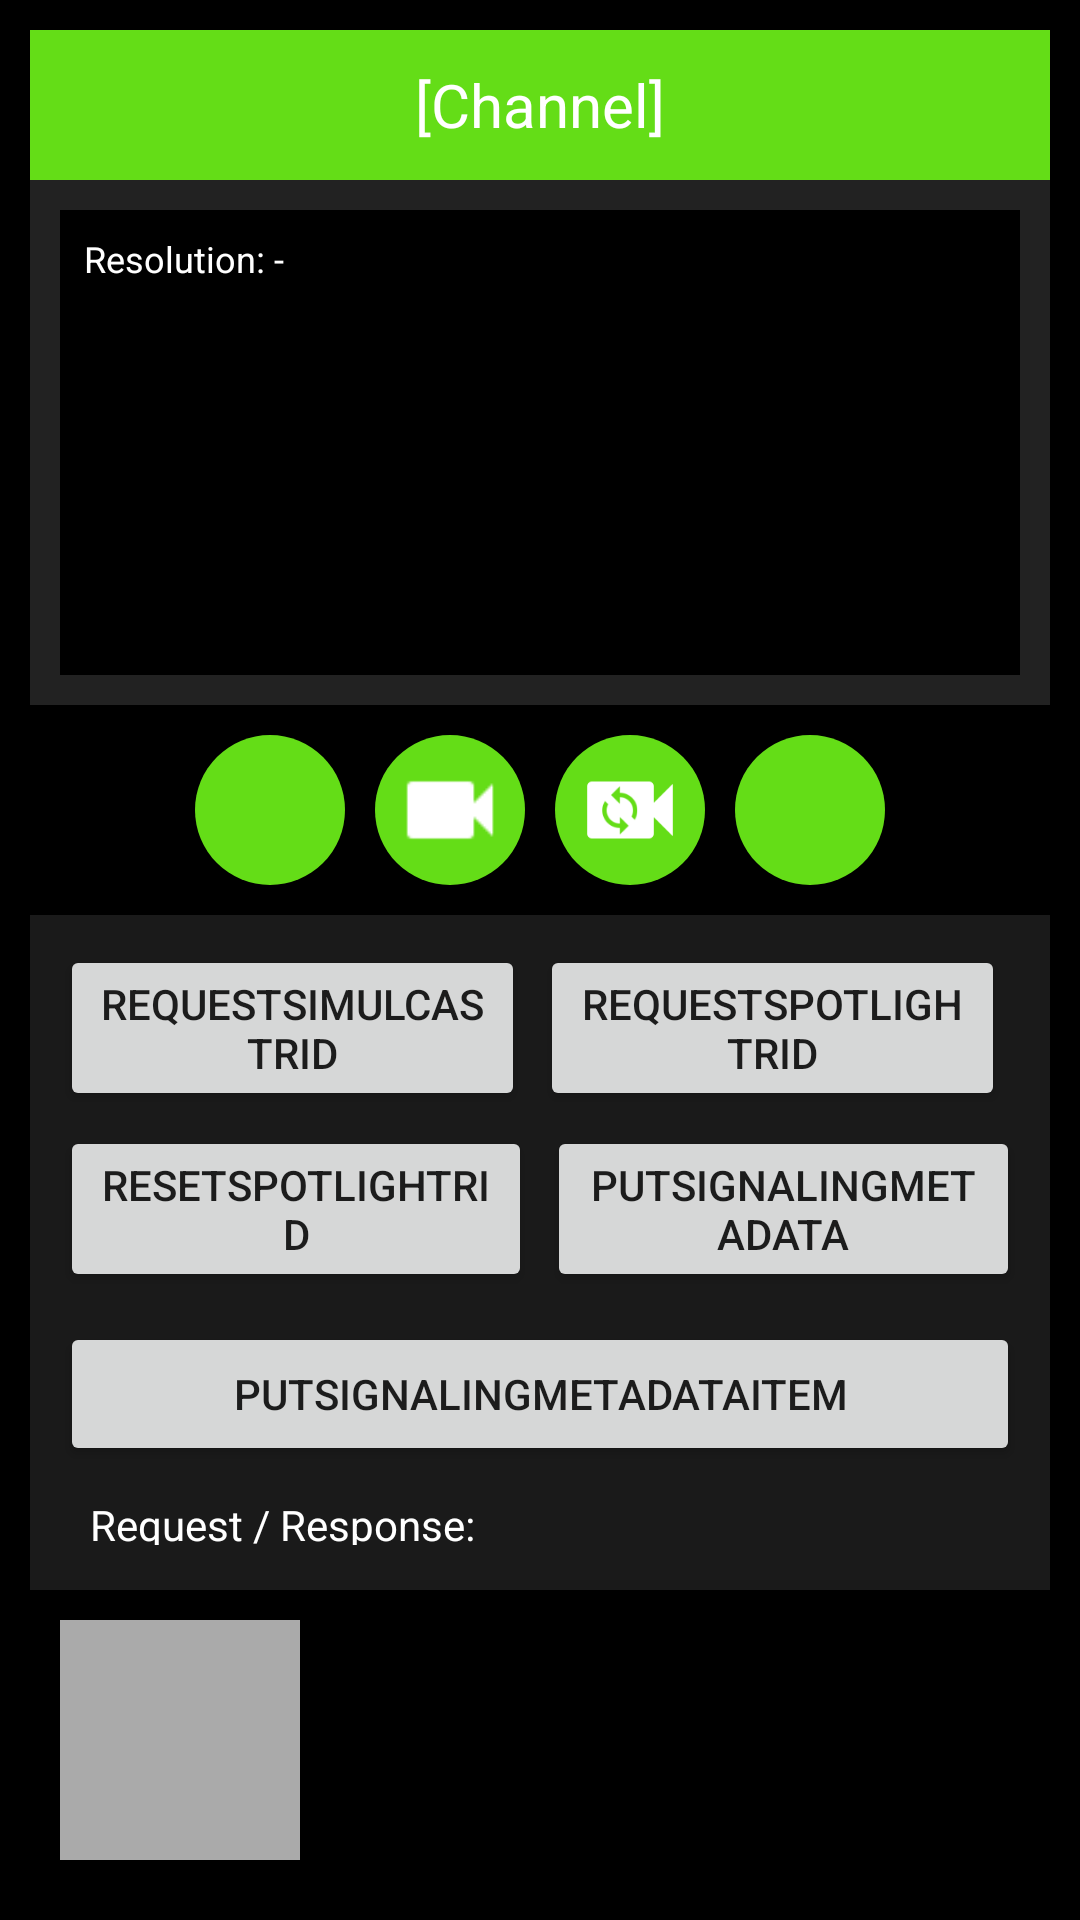

Icon click points for this 1080 × 1920 phone screenshot, format point (x, y):
videocam on: point (450, 810)
